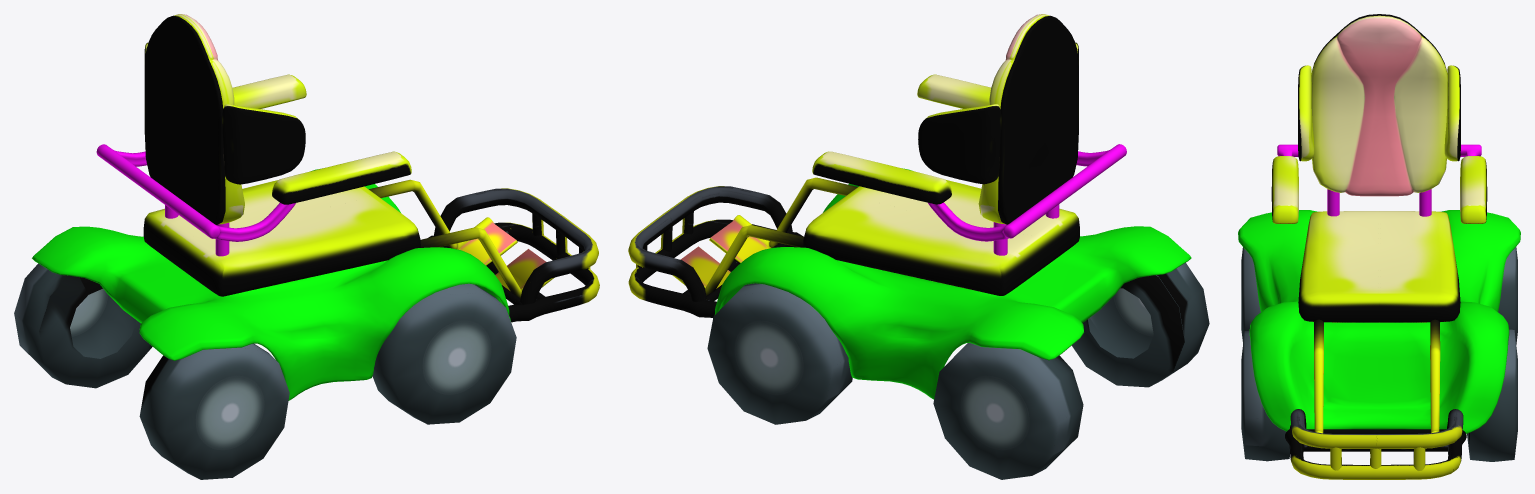
File: WheeChairl_01.fbx
The picture shows the model from 3 angles, left to right: view 1: azimuth 30°, elevation 25°; view 2: azimuth 150°, elevation 25°; view 3: azimuth 270°, elevation 25°; orthographic projection. The views are drawn at different scales.
Visible parts, largest first — view 1: Retopo_GoKart.002; view 2: Retopo_GoKart.002; view 3: Retopo_GoKart.002.
Part boxes in pixels (x1,y1,x2,y2): Retopo_GoKart.002: (14, 14, 599, 479); Retopo_GoKart.002: (628, 14, 1209, 479); Retopo_GoKart.002: (1238, 14, 1520, 479).
Size of the model in its own units: 4419 by 3509 by 2523.
